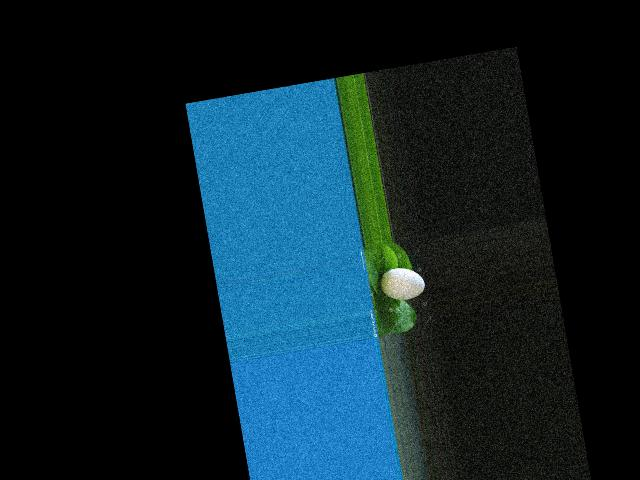egg: (377, 263, 426, 303)
